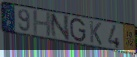4: (107, 23, 121, 50)
9: (18, 9, 31, 33)
G: (69, 17, 87, 43)
H: (32, 10, 53, 38)
K: (89, 20, 103, 47)
N: (49, 13, 71, 42)
